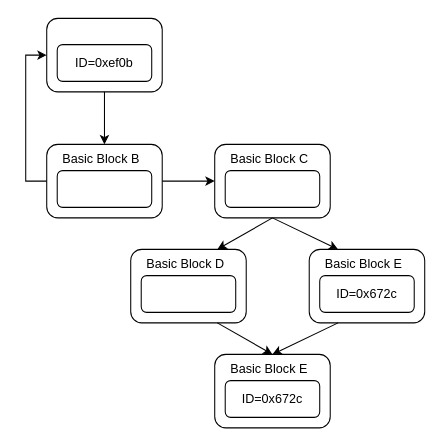
Some shapes in this 443 by 446 pixel diagram are drawn without their labels. The box of each missing label's shape, as (x1, y1, x2, y2) in pixels:
Basic Block A: (46, 17, 162, 92)
ID=0x2c3a: (56, 170, 152, 207)
ID=0x7636: (224, 170, 320, 207)
ID=0xeaab: (140, 275, 236, 312)
